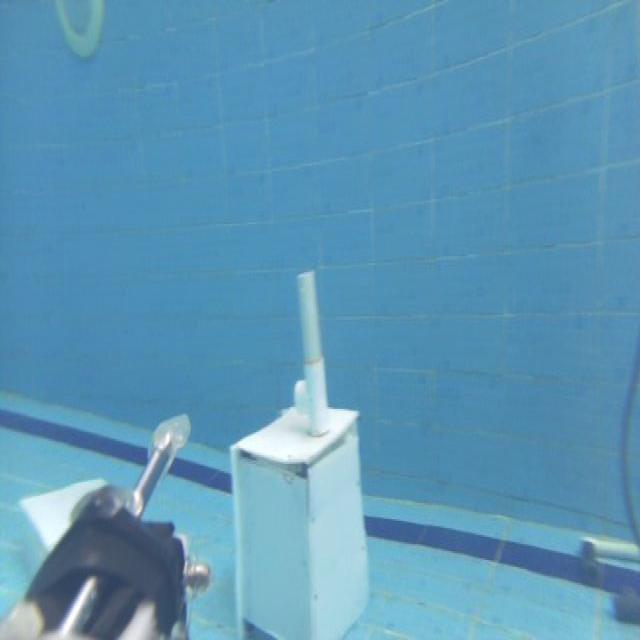Cube: (228, 400, 371, 636)
